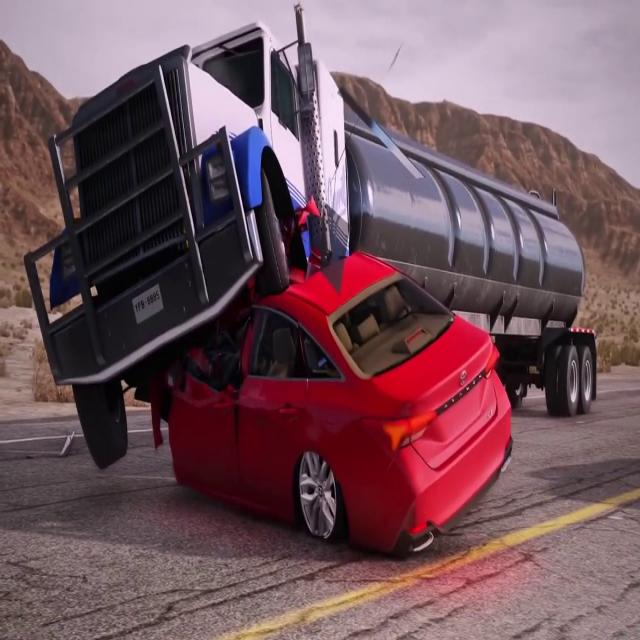accident: (27, 30, 596, 559)
